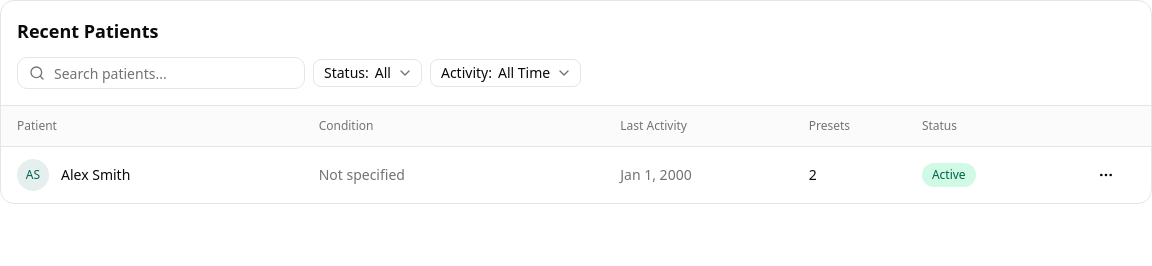
Test: RecentPatientsTable › filtering › narrows the rows to an activity range
The width and height of the screenshot is (1152, 266).
Click the dropdown named "Activity range" at x=506, y=73, box [430,59,581,87]
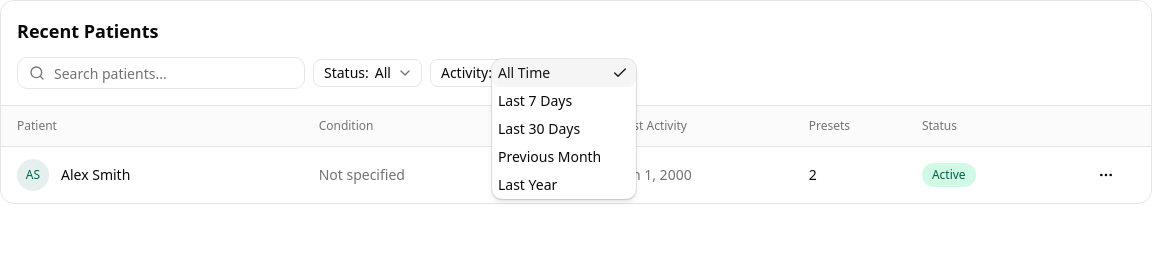
Click the option "Last 7 Days" at x=535, y=100, box [498,91,572,110]
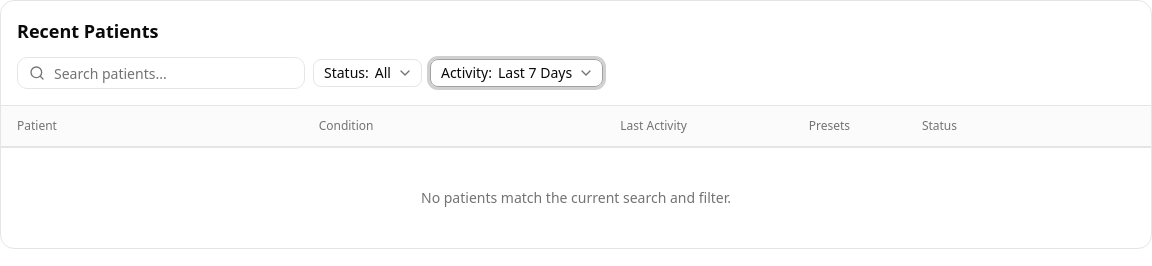
Now the text "No patients match the current search and filter." is shown, box [1,147,1151,248]
